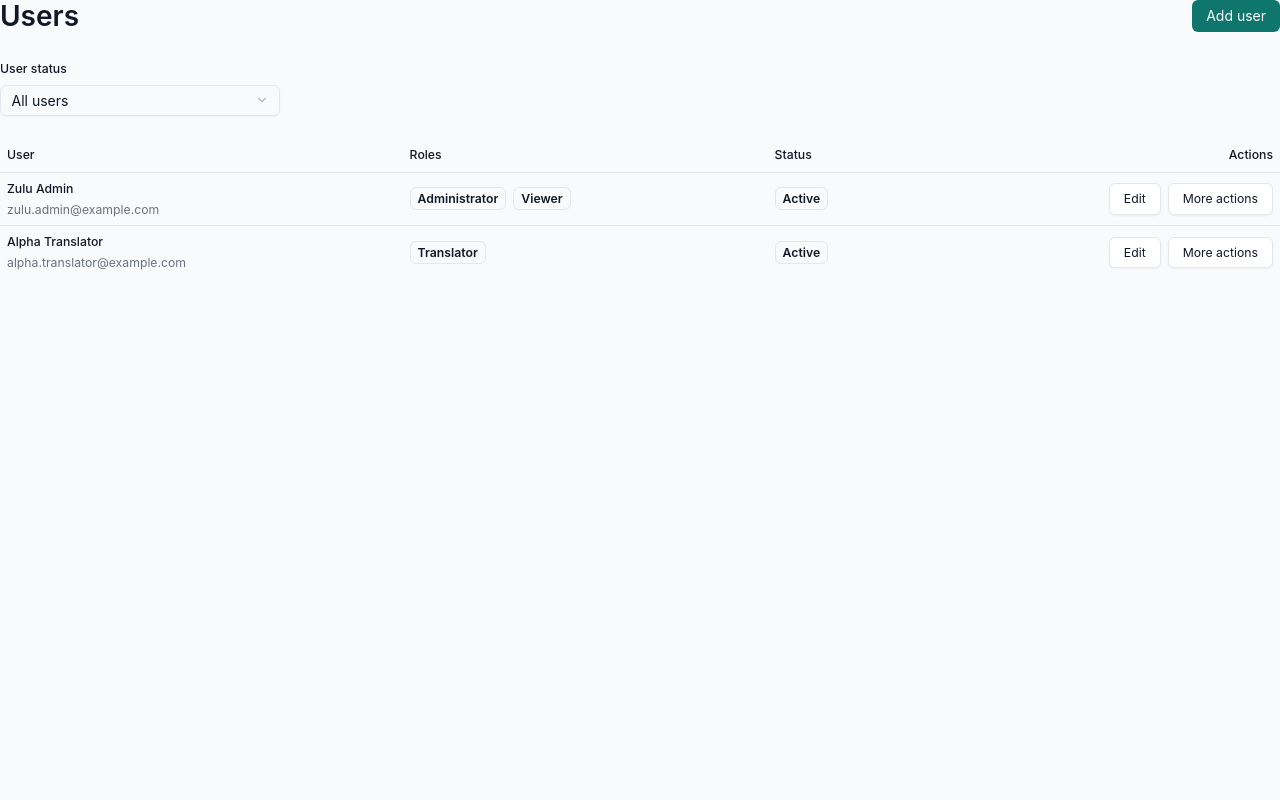
Test: administrator users page tracer › preserves product choices across pagination failures and retry
Click the button "Add user" at coordinates (1236, 16), box [1192,0,1279,32]
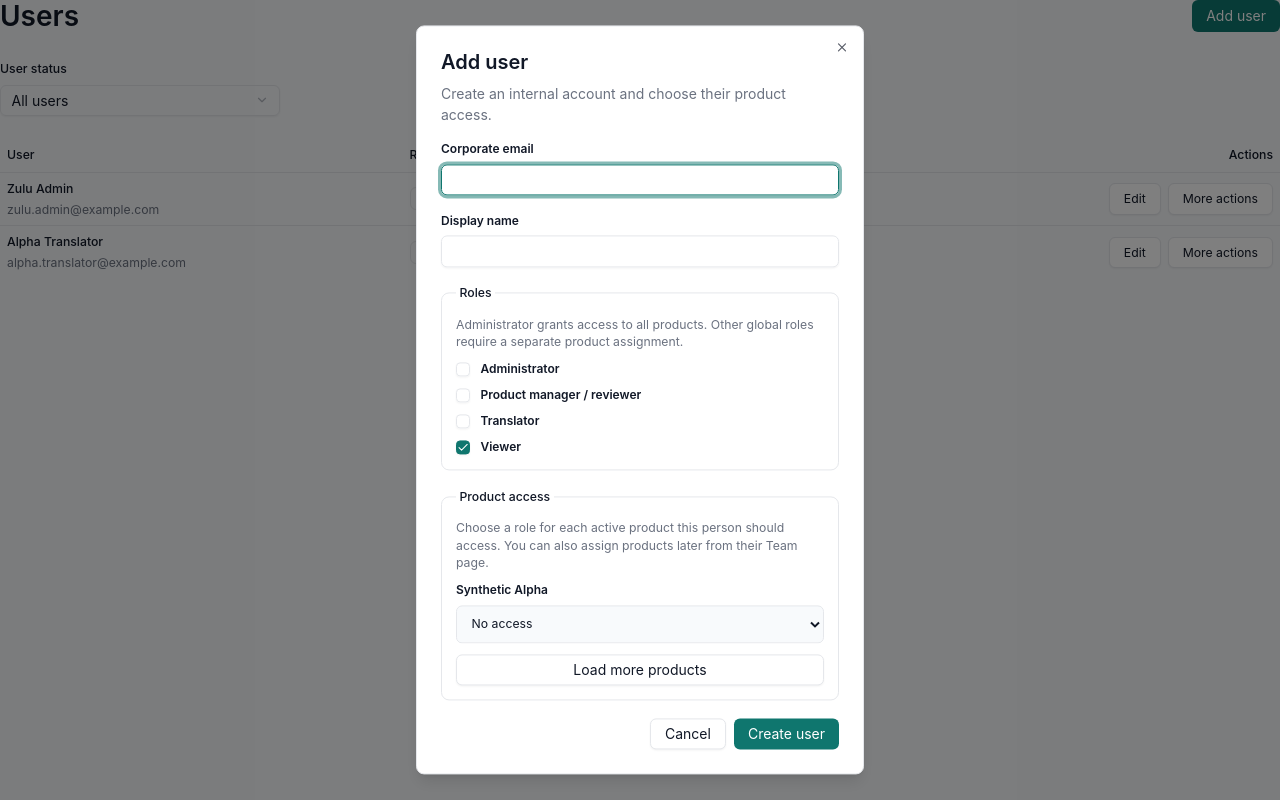
Select "Viewer" in the dropdown labelled "Synthetic Alpha" at coordinates (640, 624), box [456,605,824,644]
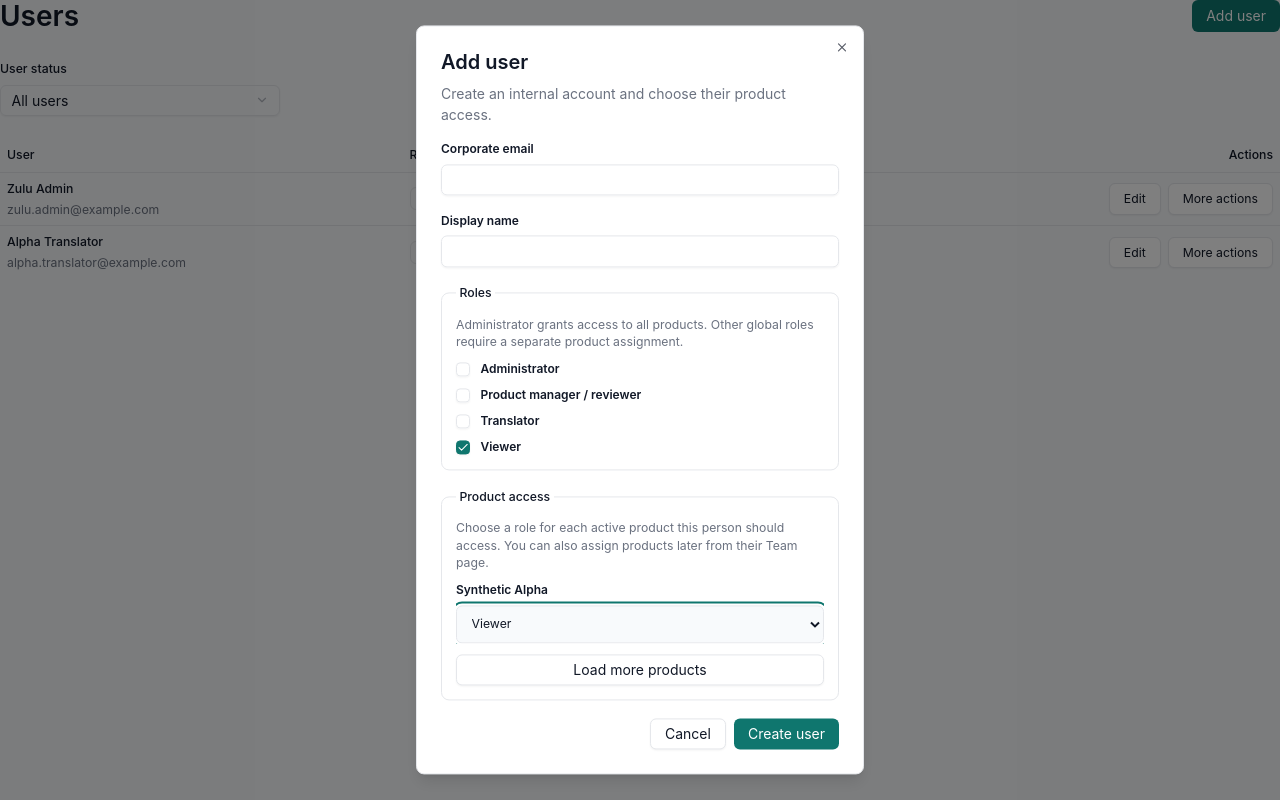
Click the button "Load more products" at coordinates (640, 670), box [456,654,824,686]
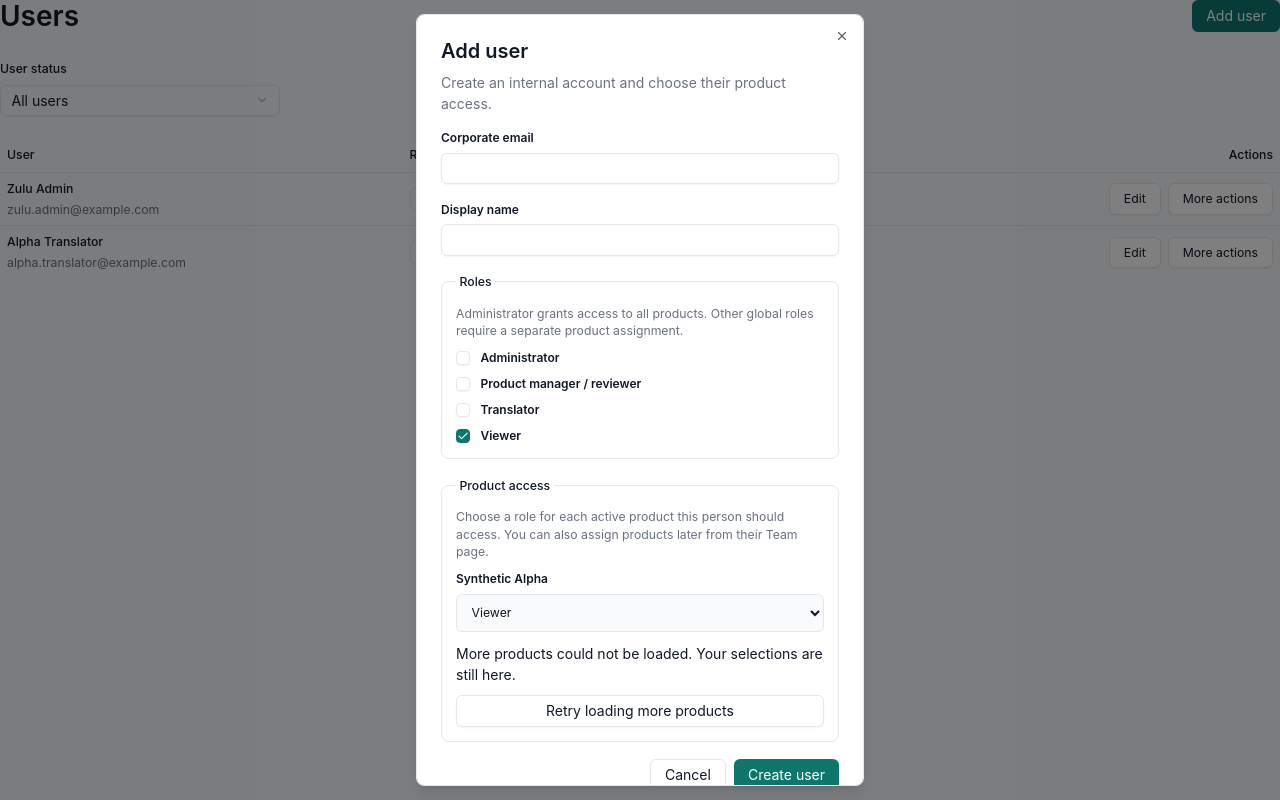
Result: the message shows "Your selections are still here" at [456,645,823,683]
Click the button "Retry loading more products" at coordinates (640, 711), box [456,695,824,727]
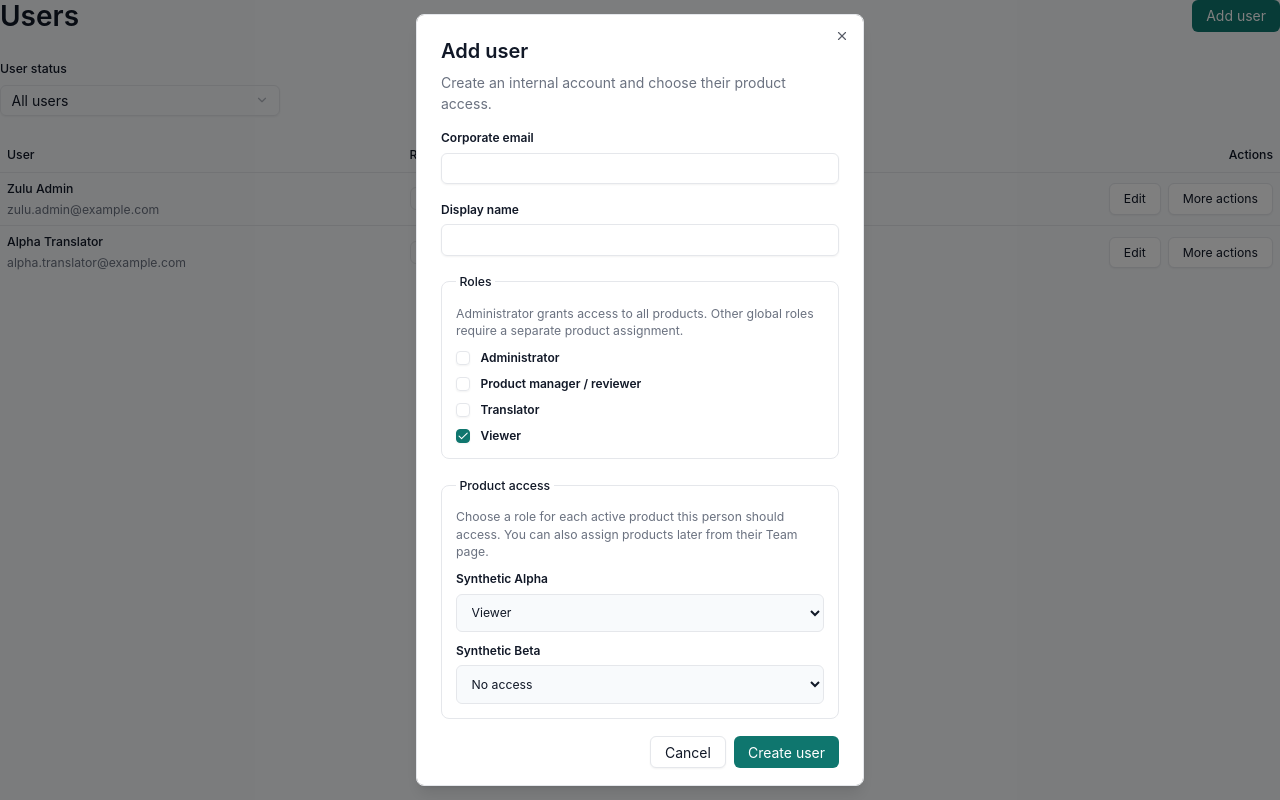
Result: the dropdown labelled "Synthetic Beta" shows "No access" at [456,665,824,704]
